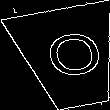O_S: (35, 28, 103, 87)
